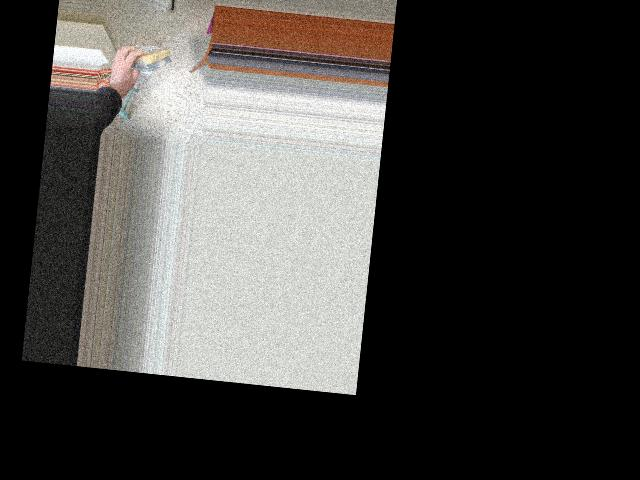cheese: (125, 42, 173, 70)
